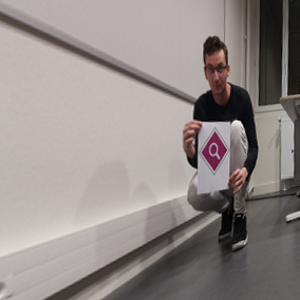search: (199, 127, 228, 174)
